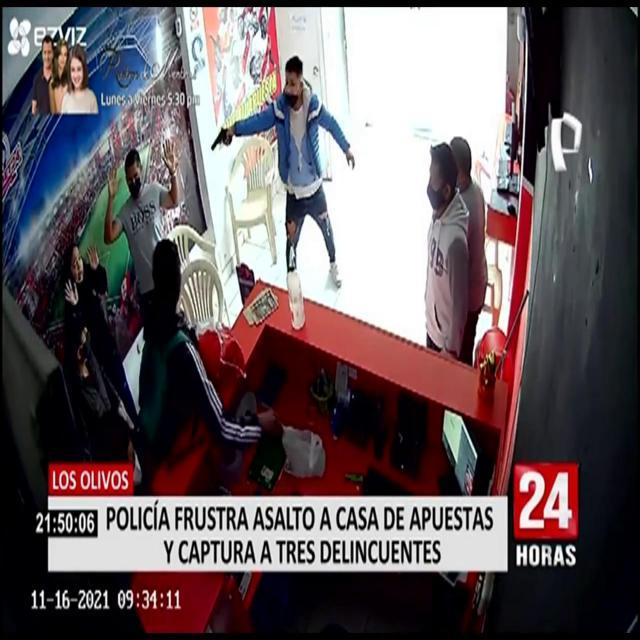weapon: (206, 118, 237, 159)
